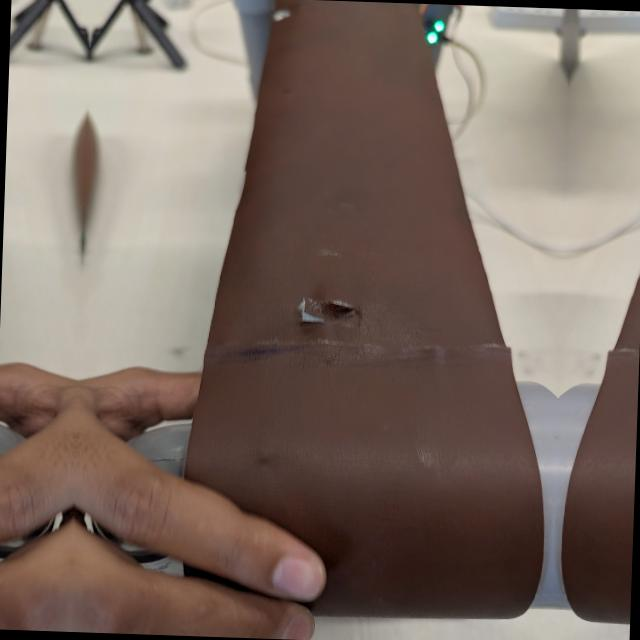joint_damage: (280, 271, 358, 345)
